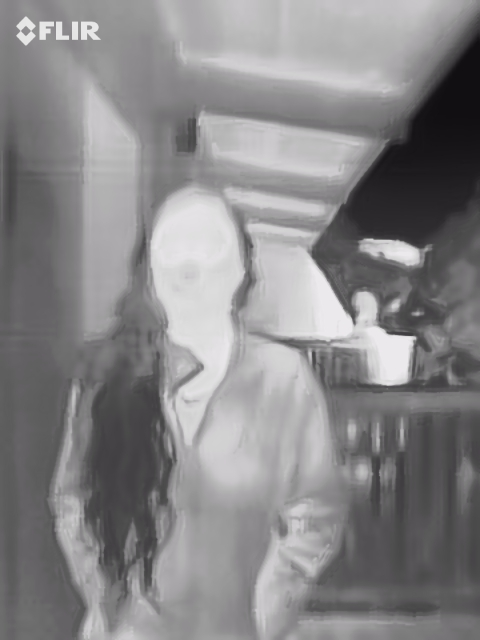head: (145, 182, 250, 322)
